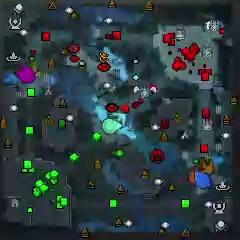p1: (194, 170, 211, 190)
p2: (102, 118, 122, 133)
p3: (15, 64, 35, 83)
p5: (189, 170, 197, 186)
x2: (30, 61, 41, 80)
x3: (111, 111, 127, 124)
x5: (198, 157, 215, 176)
